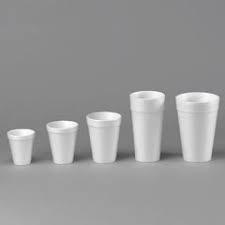Plastic cup: (4, 41, 225, 225)
